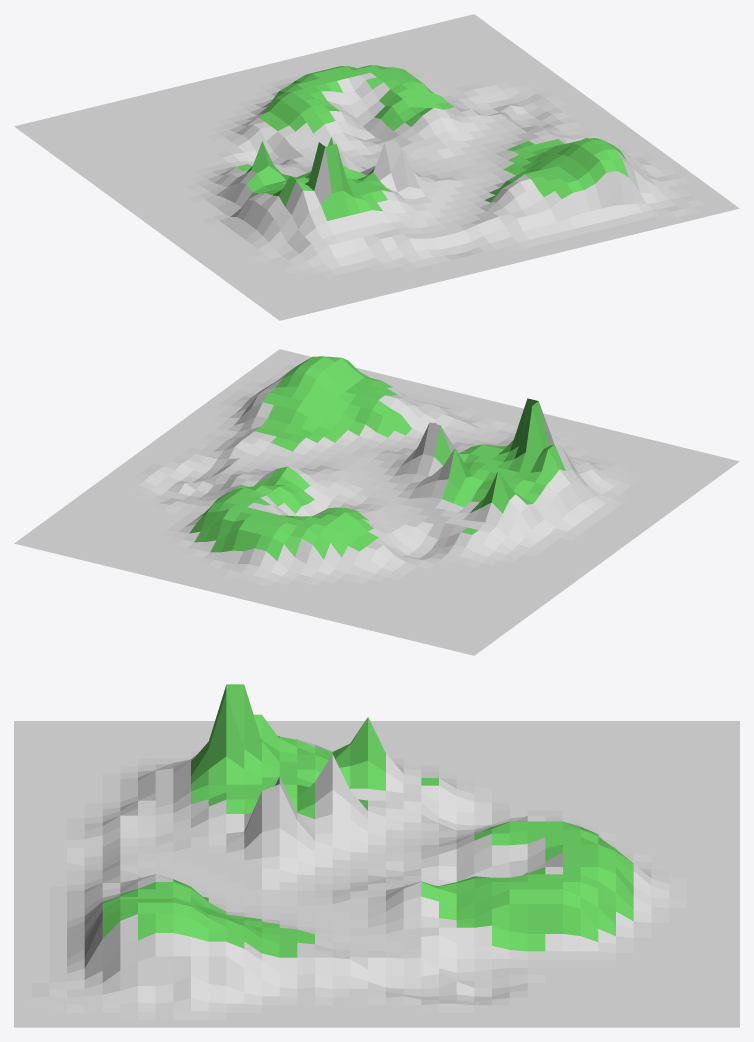
The model's file is world.gltf.
3 renders of one model, top to bottom at view 1: azimuth 30°, elevation 25°; view 2: azimuth 150°, elevation 25°; view 3: azimuth 270°, elevation 25°, orthographic. The views are drawn at different scales.
Visible parts, largest first — view 1: Plane; view 2: Plane; view 3: Plane.
Boxes of the visible parts, left/top/right/bottom form: Plane: left=14, top=14, right=739, bottom=320; Plane: left=14, top=349, right=739, bottom=655; Plane: left=14, top=684, right=739, bottom=1027.
Size of the model in its own units: 100 by 19.21 by 100.
